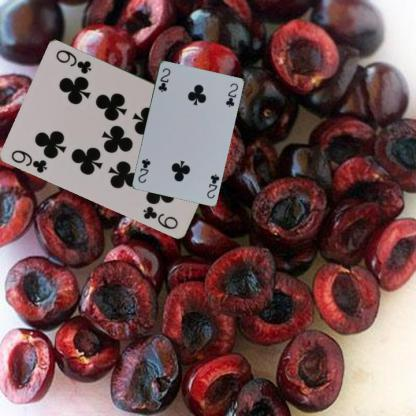2c: (204, 171, 221, 199), (156, 65, 172, 93)
9c: (9, 147, 49, 174)
